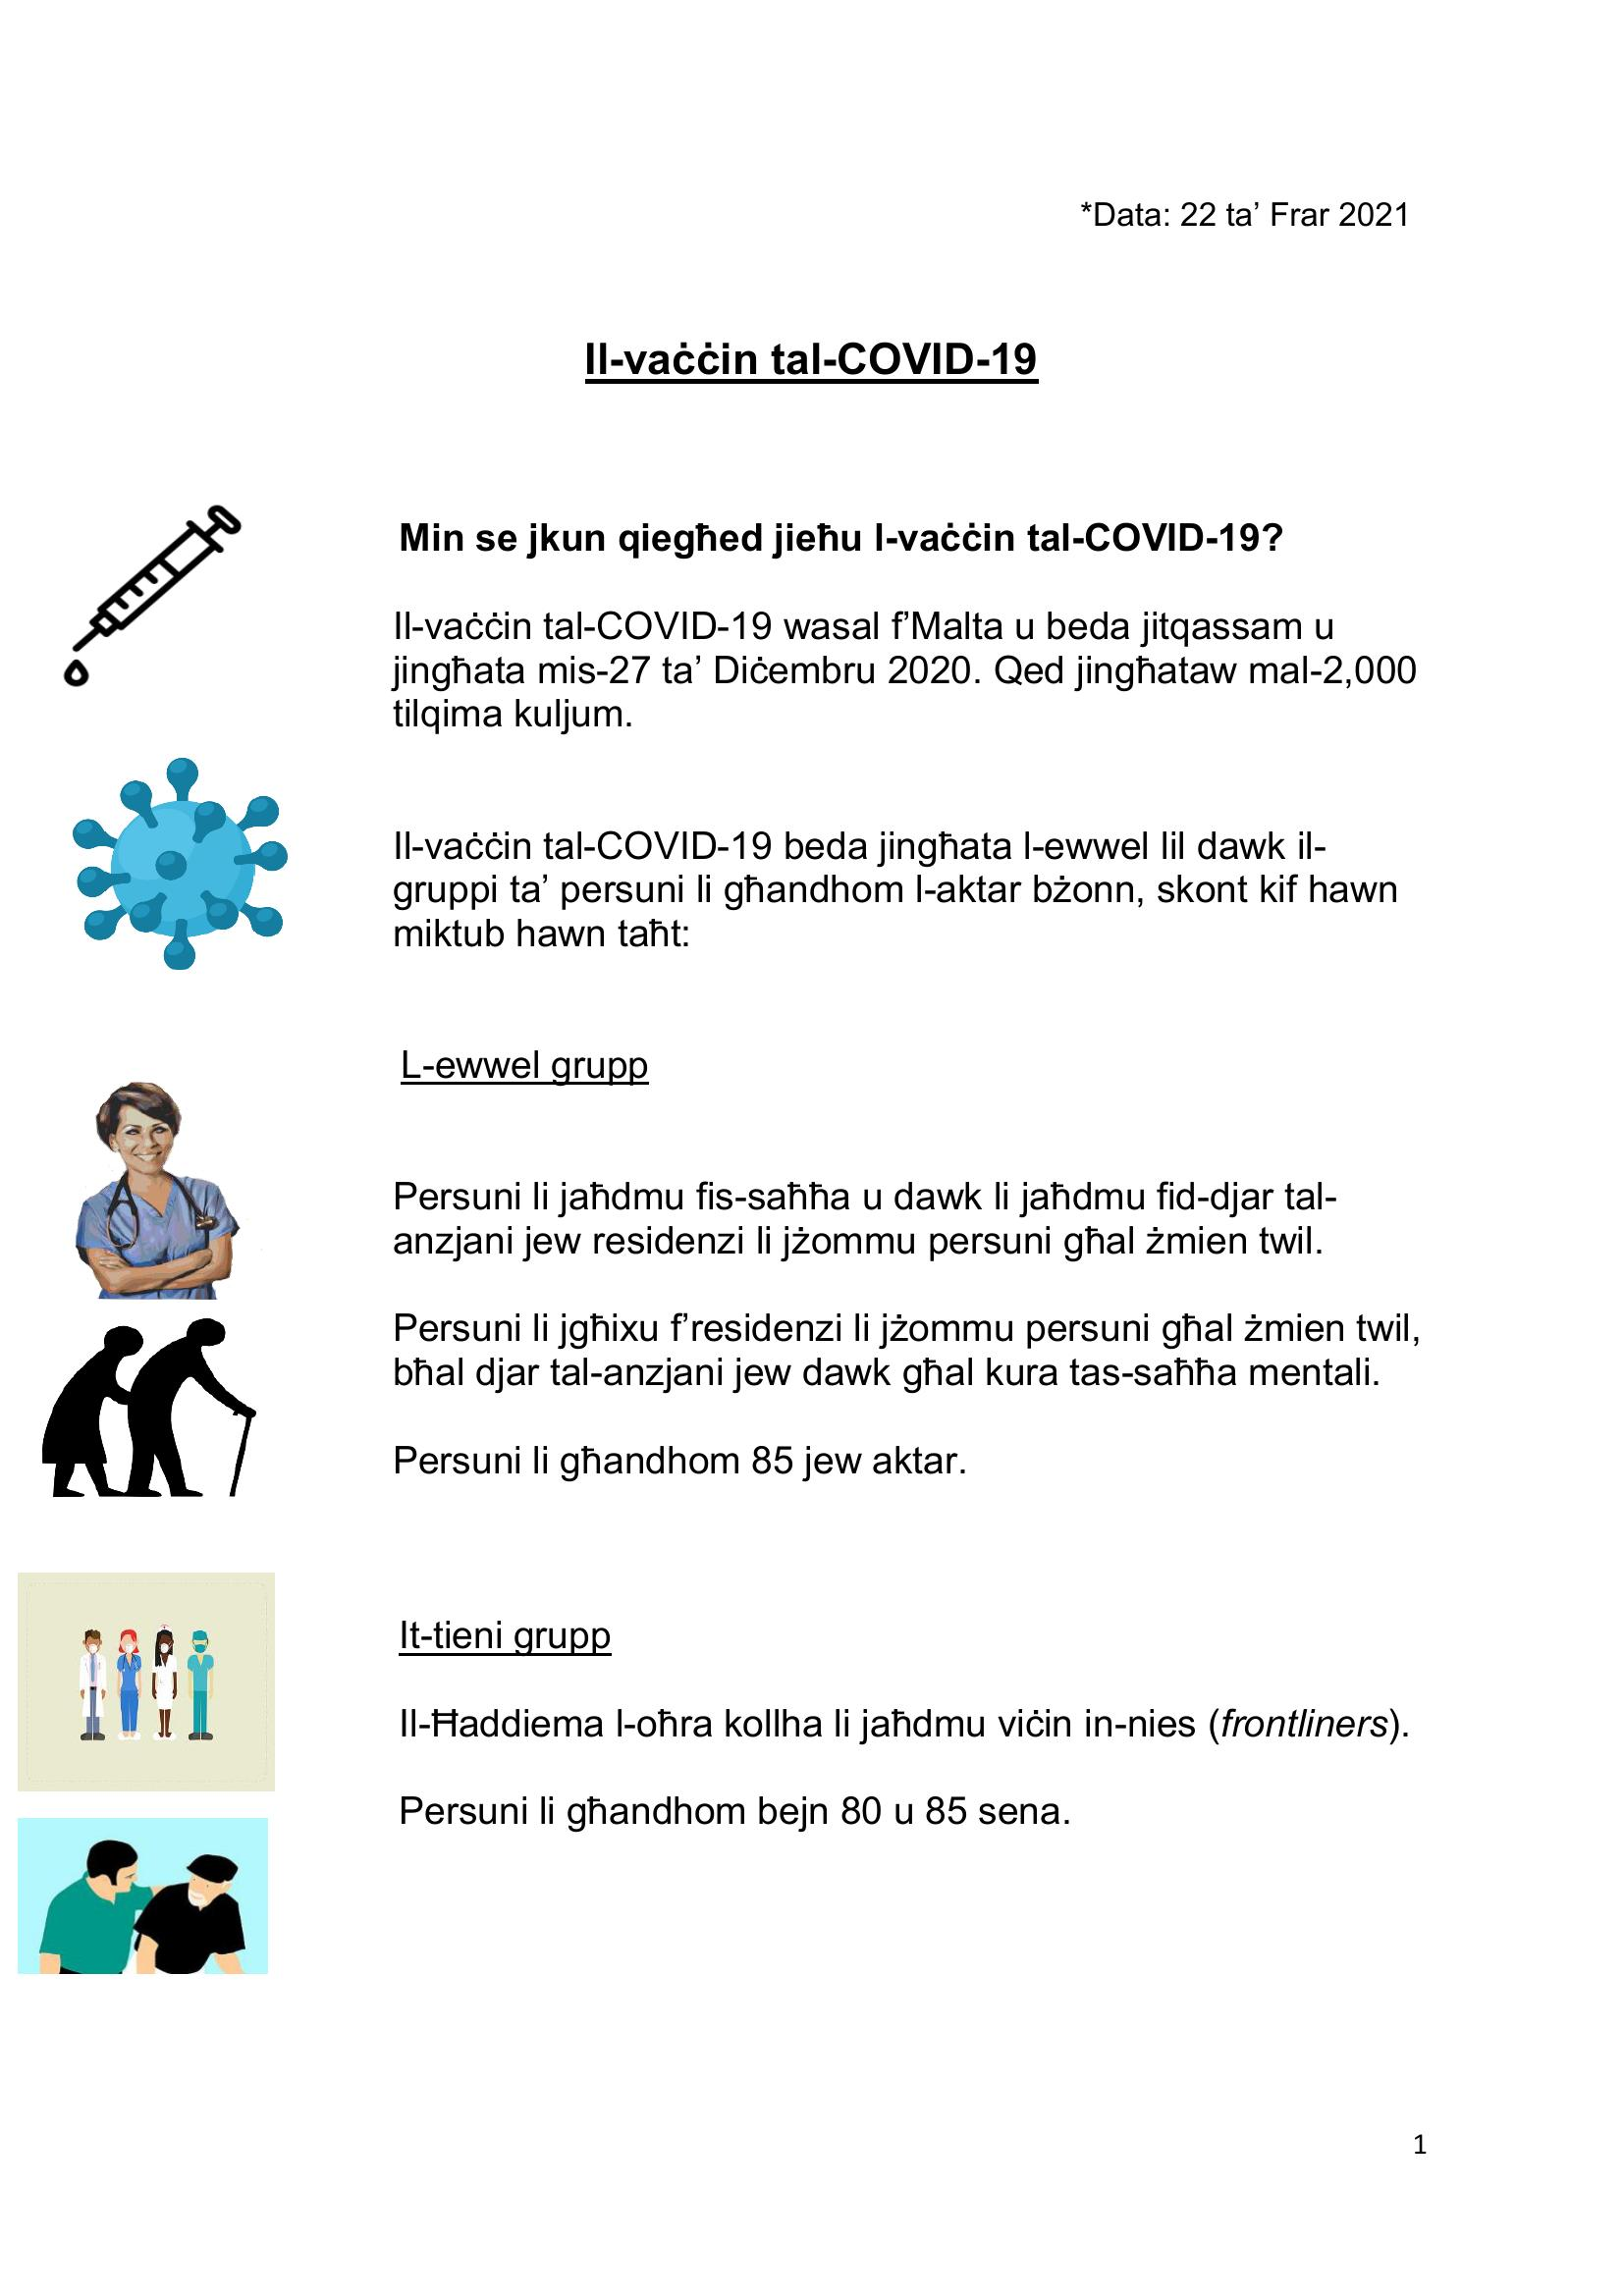text: (355, 302, 1452, 1876)
